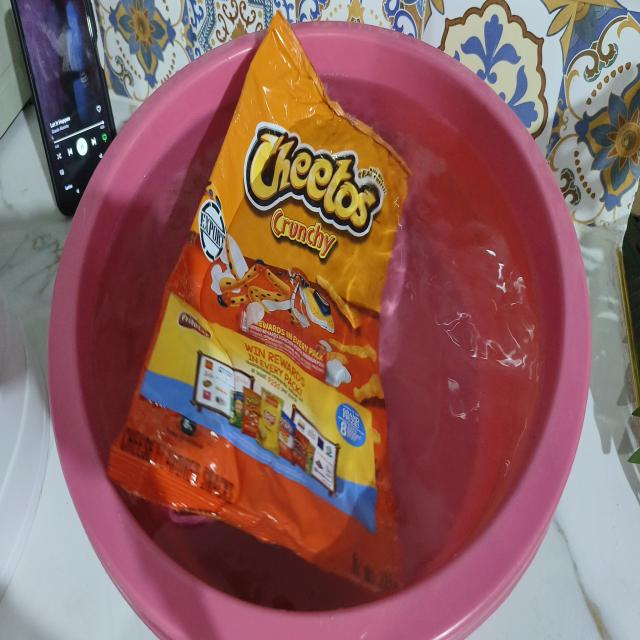Plastic Wrapper: (97, 3, 481, 628)
